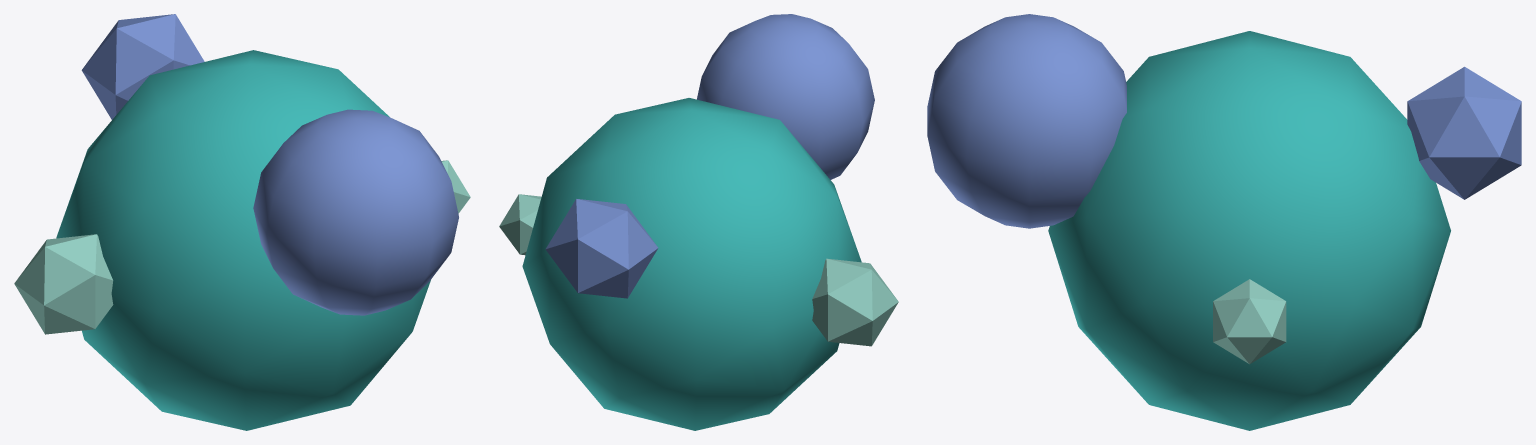
Rendered from crystal_sprite.glb.
The picture shows the model from 3 angles, left to right: view 1: azimuth 30°, elevation 25°; view 2: azimuth 150°, elevation 25°; view 3: azimuth 270°, elevation 25°; orthographic projection. The views are drawn at different scales.
Visible parts, largest first — view 1: body_core, head_core, orb_2, orb_3, orb_0; view 2: body_core, head_core, orb_3, orb_2, orb_0; view 3: body_core, head_core, orb_3, orb_0.
Boxes of the visible parts, x1=… form: body_core: x1=56, y1=50, x2=430, y2=430; head_core: x1=253, y1=109, x2=458, y2=315; orb_2: x1=14, y1=234, x2=113, y2=334; orb_3: x1=81, y1=14, x2=204, y2=119; orb_0: x1=441, y1=160, x2=470, y2=213; body_core: x1=522, y1=98, x2=861, y2=430; head_core: x1=697, y1=14, x2=874, y2=179; orb_3: x1=545, y1=199, x2=658, y2=298; orb_2: x1=812, y1=258, x2=898, y2=346; orb_0: x1=499, y1=194, x2=541, y2=255; body_core: x1=1048, y1=31, x2=1450, y2=430; head_core: x1=927, y1=14, x2=1126, y2=228; orb_3: x1=1407, y1=66, x2=1521, y2=199; orb_0: x1=1213, y1=279, x2=1286, y2=364.
Size of what is drawn, in the model's own units: 1.92 by 1.6 by 2.21.
